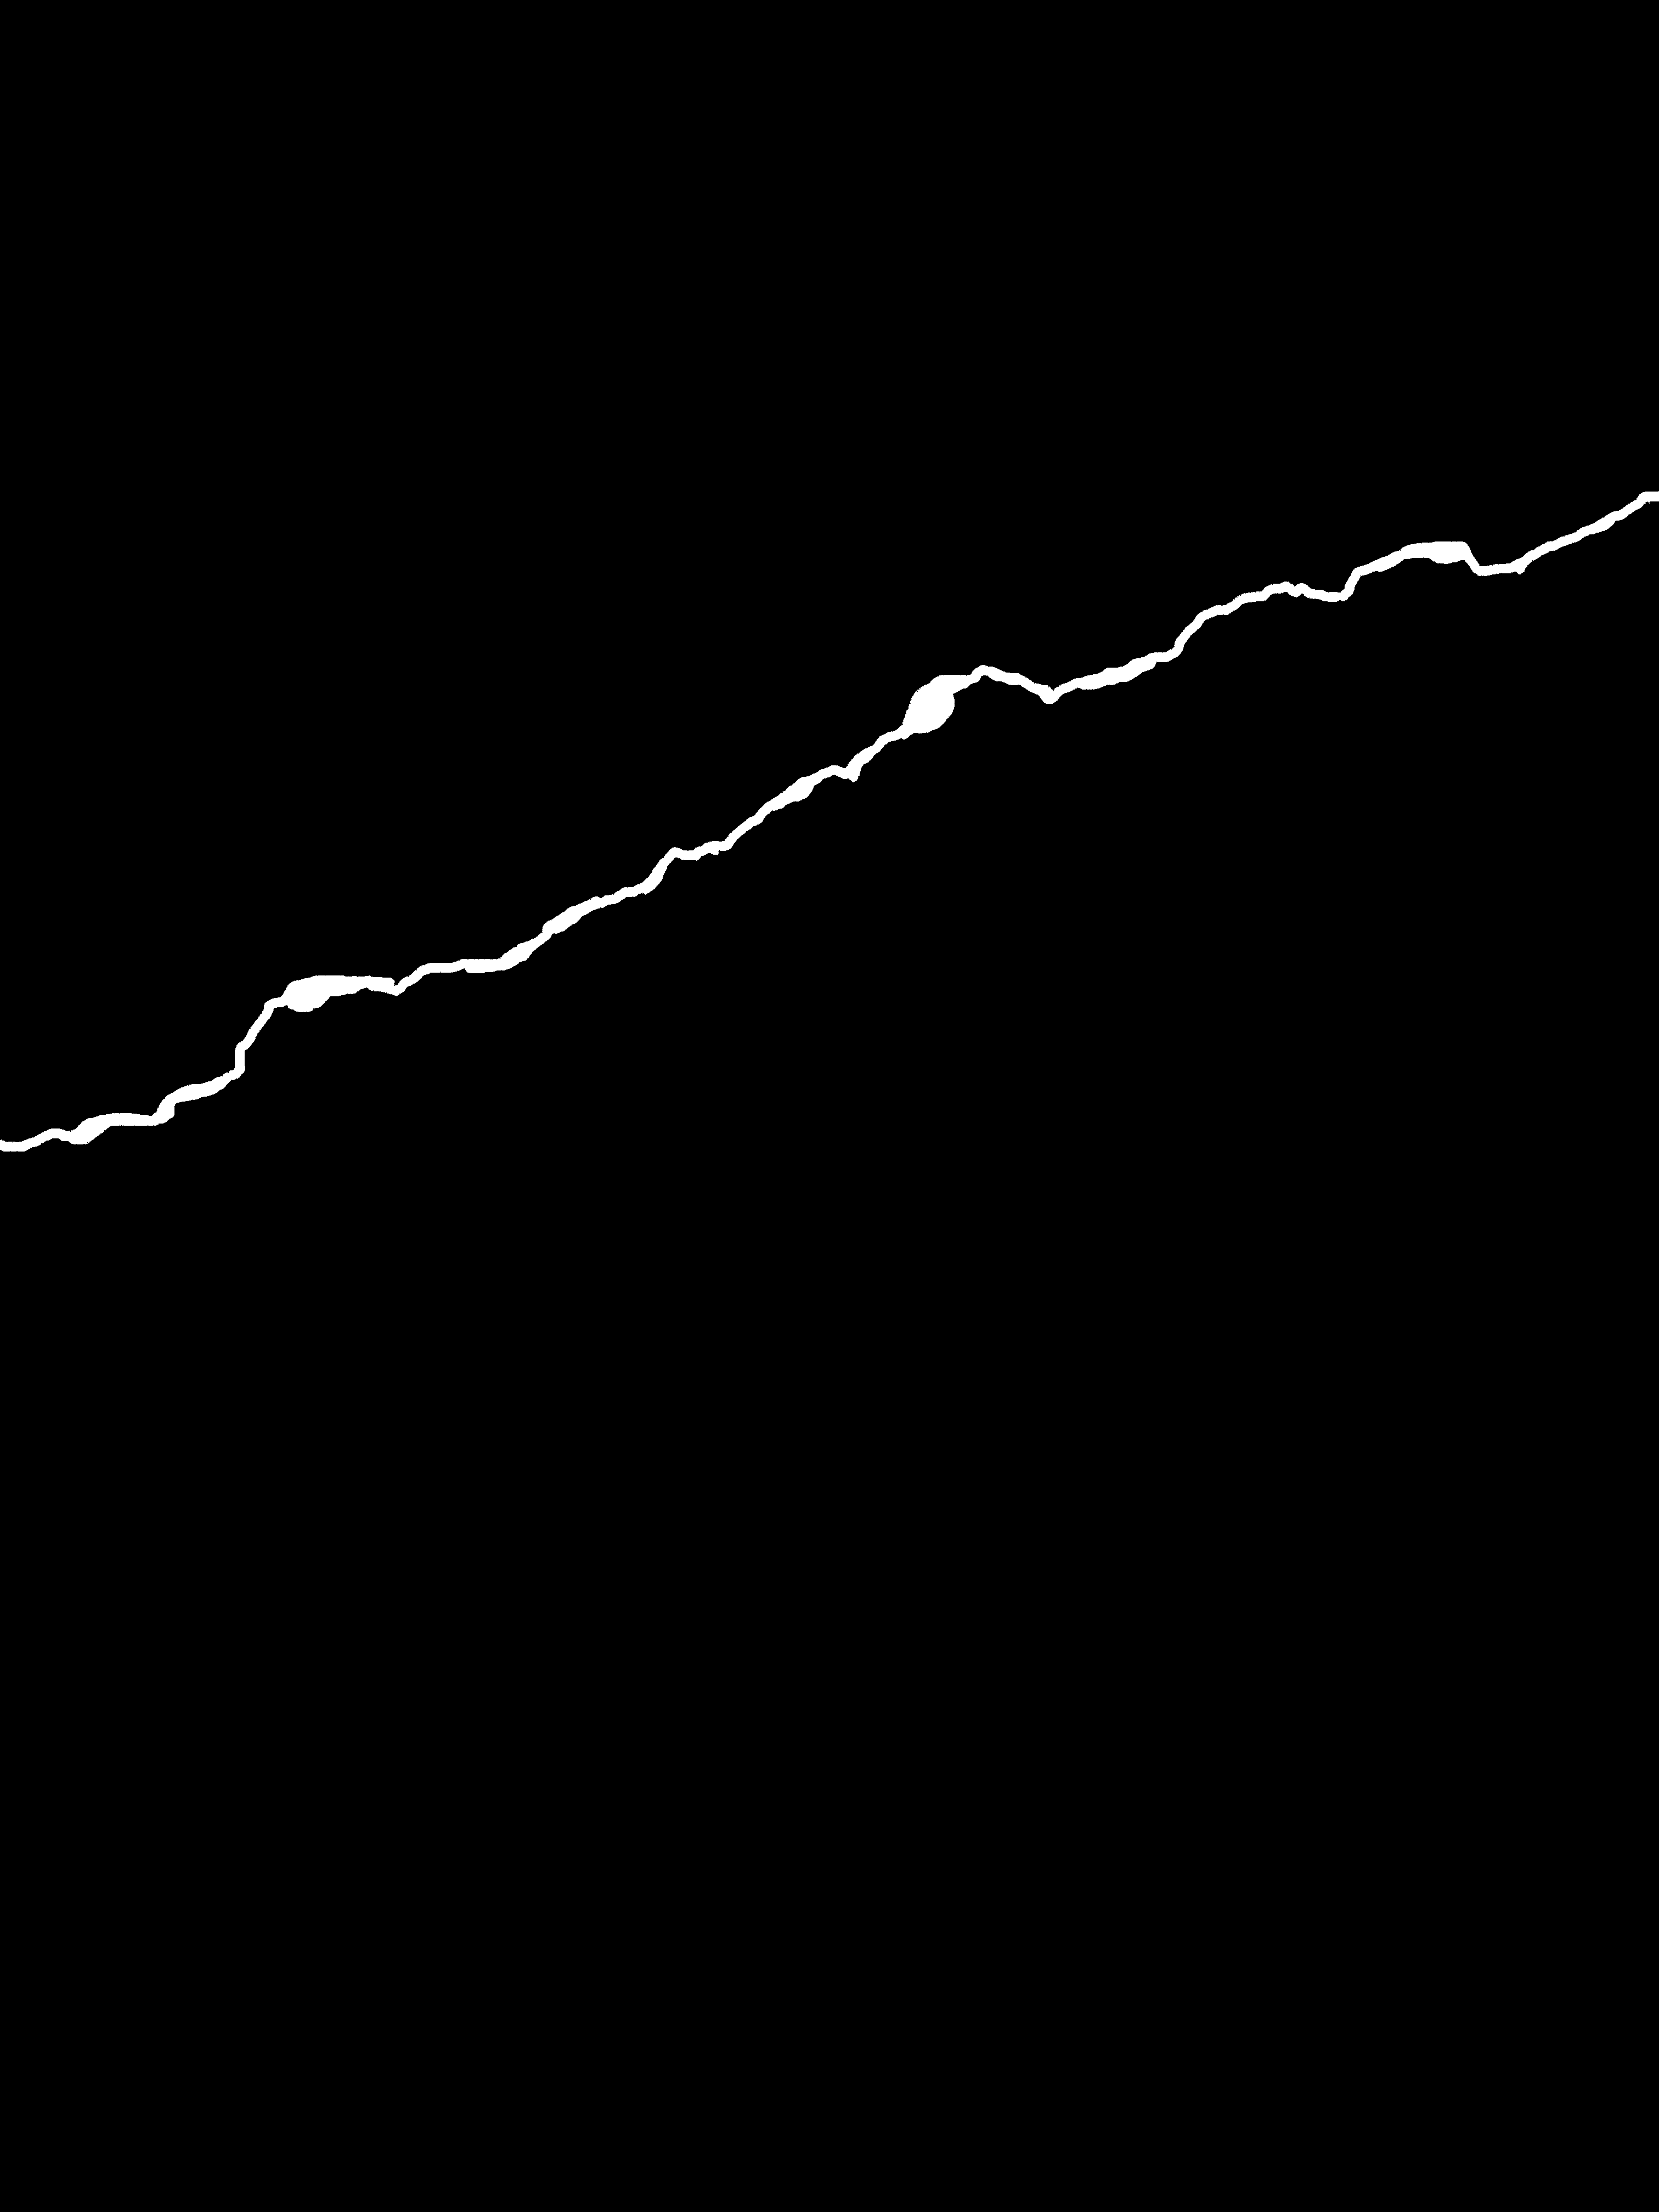Crack: (0, 463, 1659, 1181)
